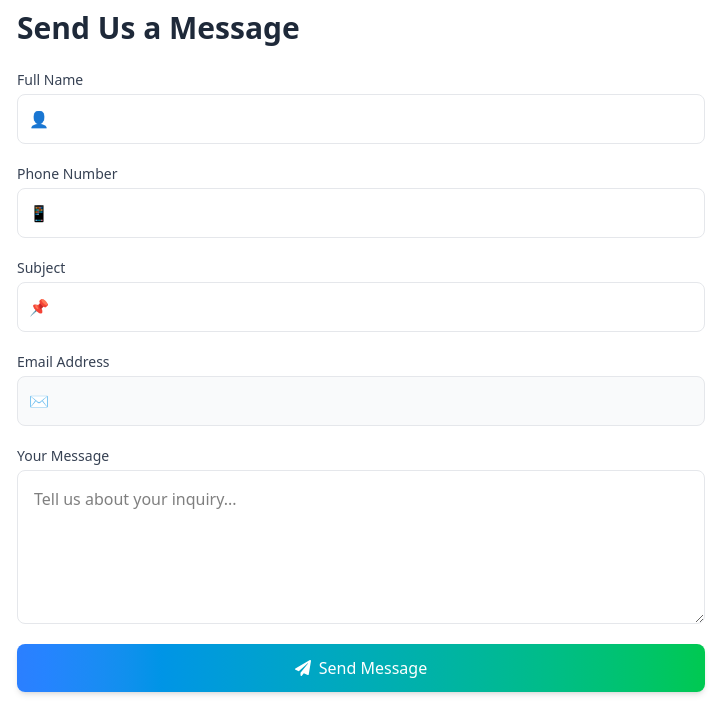
ContactForm › should disable the button when submitting
This screenshot has width=723, height=713.
Step 1. Type "John Doe" into the field labelled "Full Name" → (361, 119), box [17,94,705,144]
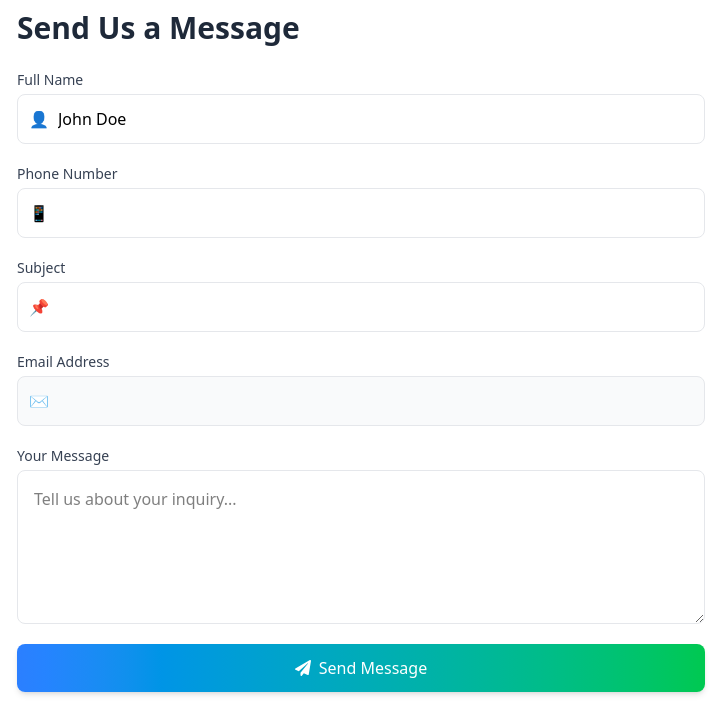
Step 2. Type "1234567890" into the field labelled "Phone Number" → (361, 213), box [17,188,705,238]
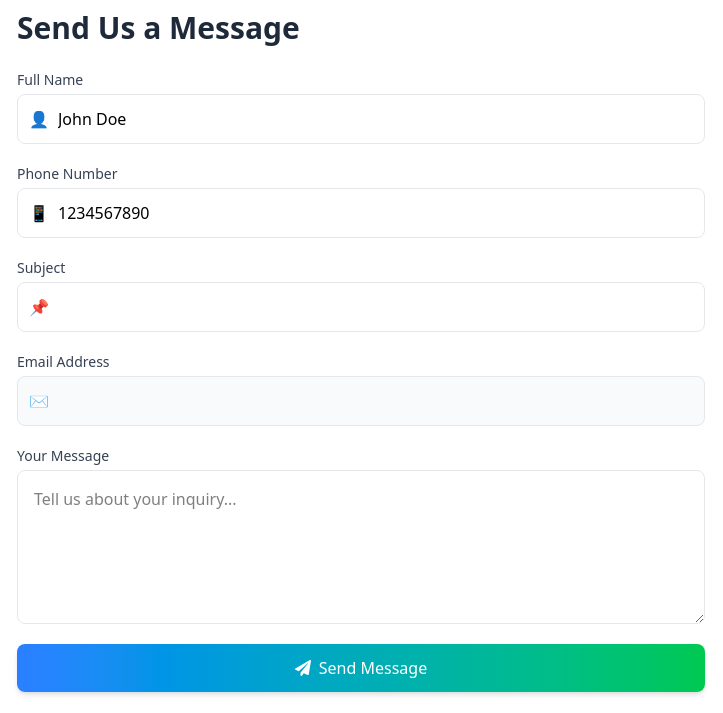
Step 3. Type "Inquiry" into the field labelled "Subject" → (361, 307), box [17,282,705,332]
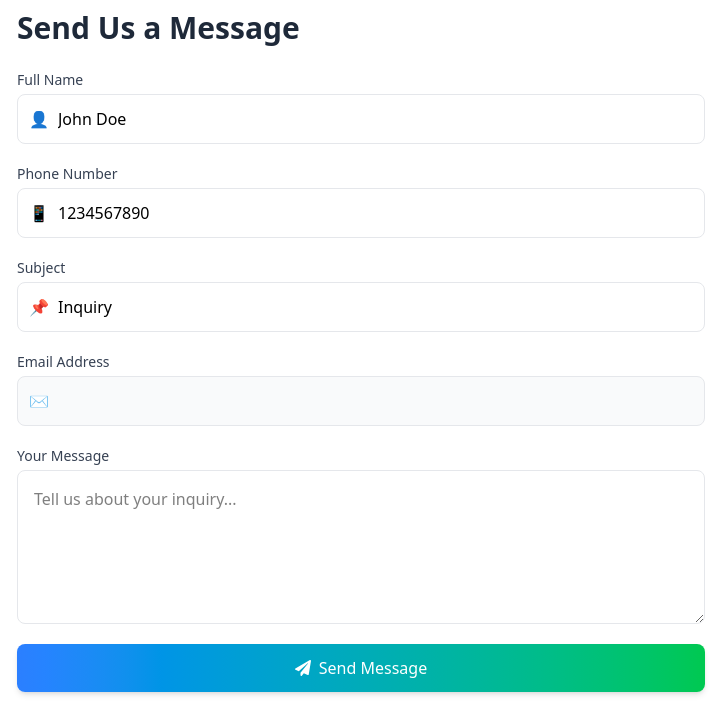
Step 4. Type "I have a question." into the text box with placeholder "Tell us about your inquiry..." → (361, 547), box [17,470,705,624]
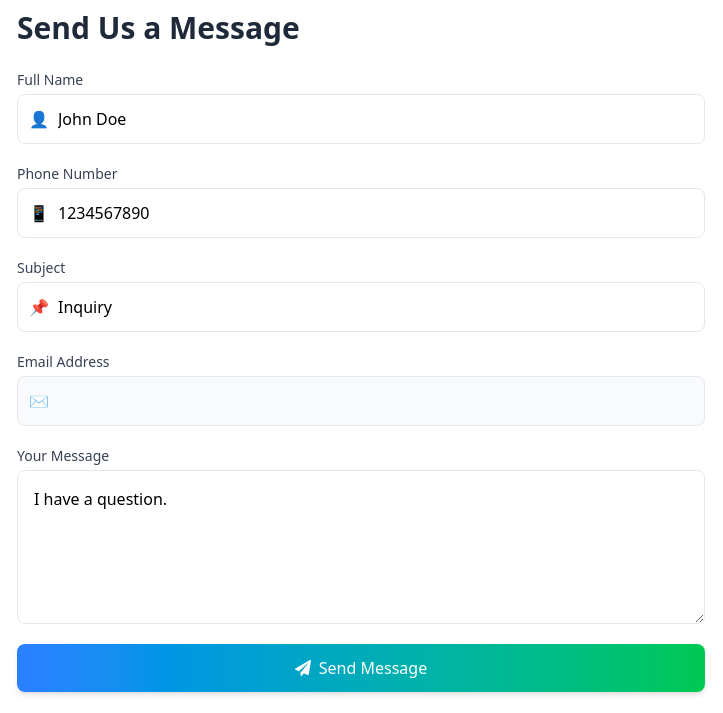
Step 5. Click the button "Send Message" → (361, 668), box [17,644,705,692]
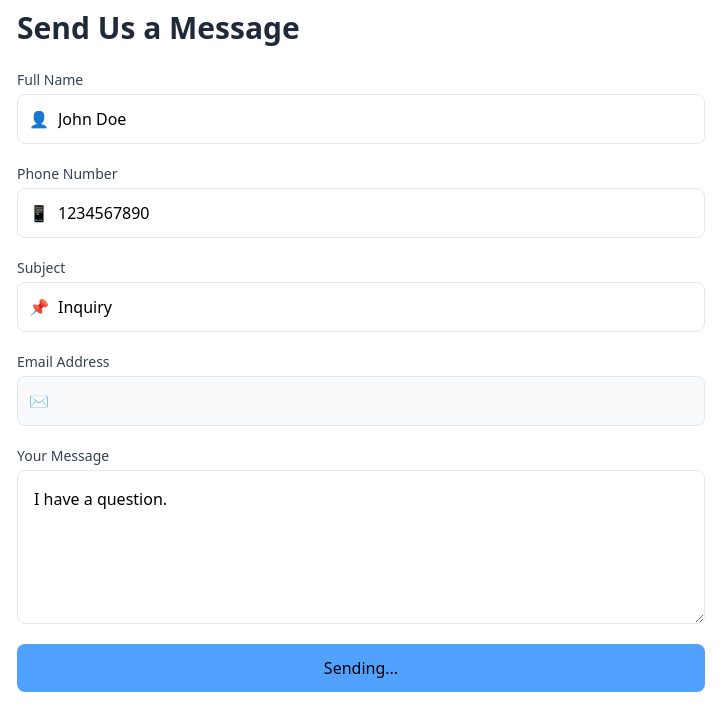
expect the button is disabled: met, box [17,644,705,692]
expect the button reads "Sending...": met, box [17,644,705,692]
